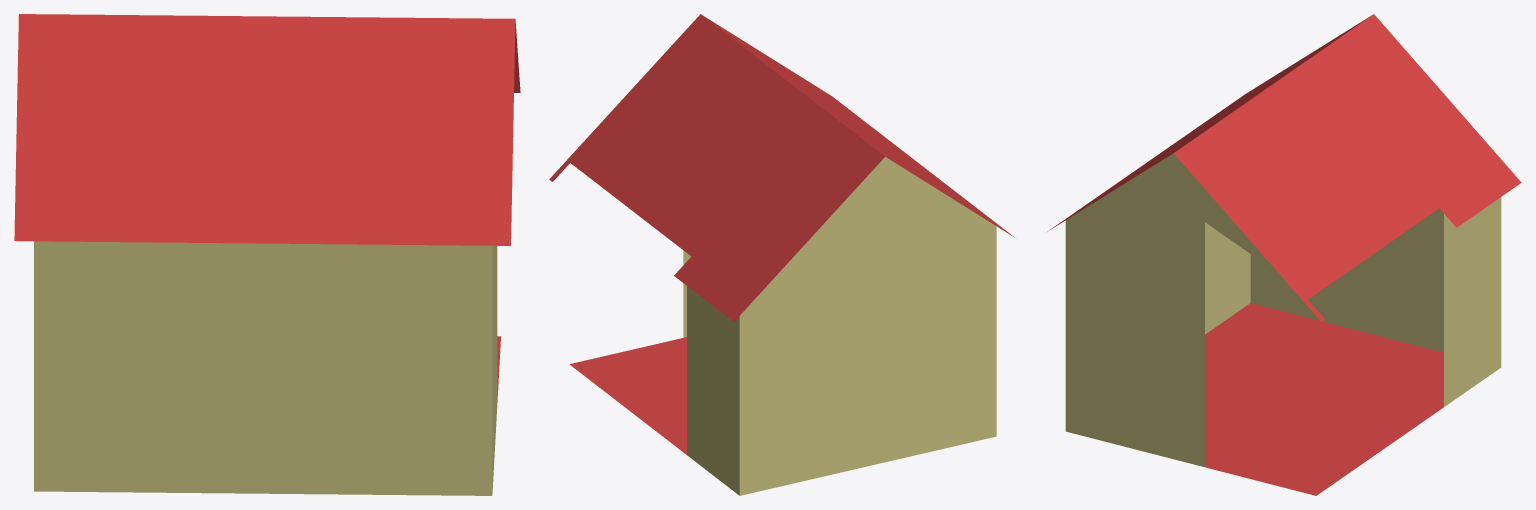
3 views of the same model, side by side, from view 1: azimuth 30°, elevation 25°; view 2: azimuth 150°, elevation 25°; view 3: azimuth 270°, elevation 25° (orthographic). The views are drawn at different scales.
Size of the model in its own units: 16.78 by 16.07 by 11.67.
